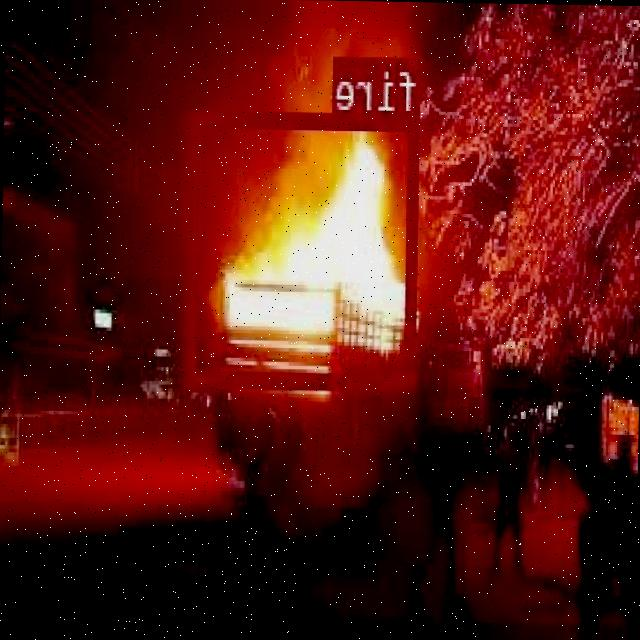fire: (186, 107, 420, 388)
